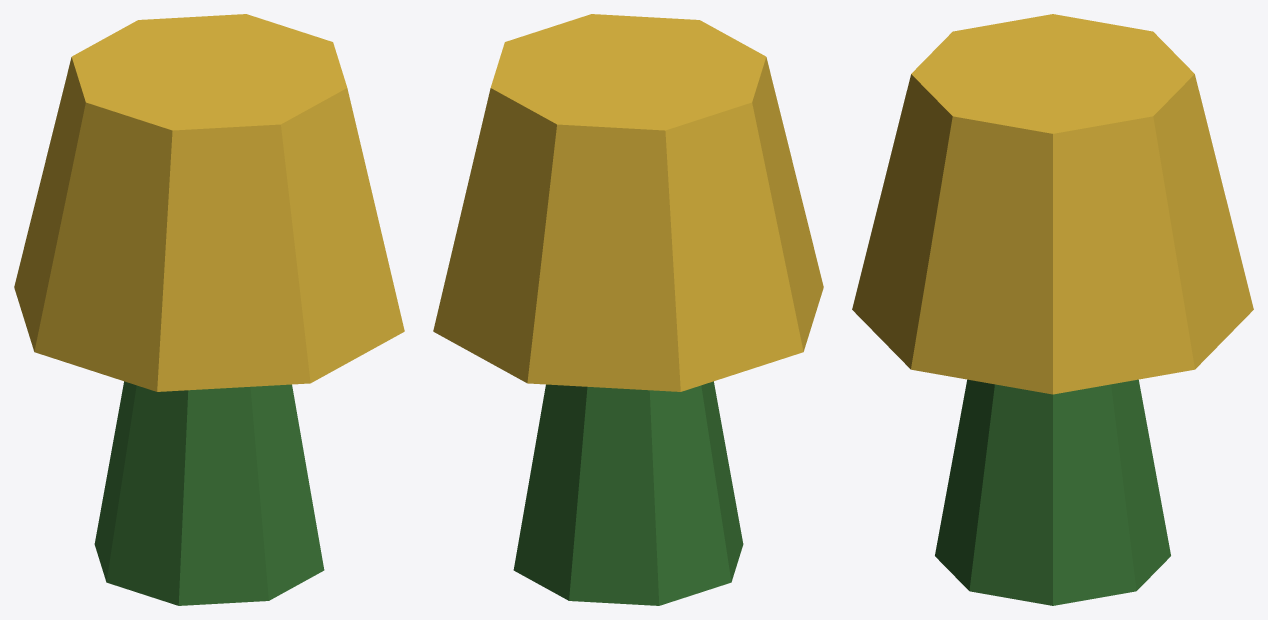
File: GD_TableLamp_Retro_01.glb
3 views of the same model, side by side, from view 1: azimuth 30°, elevation 25°; view 2: azimuth 150°, elevation 25°; view 3: azimuth 270°, elevation 25° (orthographic).
Parts seen in each view (by area): view 1: GD_TableLamp_Retro_01; view 2: GD_TableLamp_Retro_01; view 3: GD_TableLamp_Retro_01.
Part boxes in pixels (bbox=[...]): GD_TableLamp_Retro_01: bbox=[14, 14, 404, 605]; GD_TableLamp_Retro_01: bbox=[433, 14, 823, 605]; GD_TableLamp_Retro_01: bbox=[852, 14, 1253, 605].
Bounding box in the file's own units: 0.34 × 0.45 × 0.34.
Materials: 1 (1 with a texture image).
